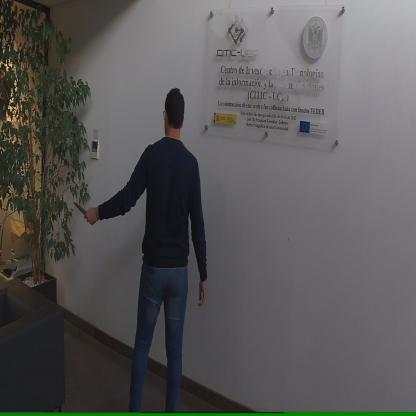knife: (72, 198, 94, 226)
